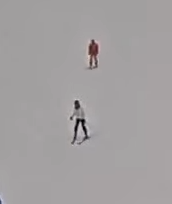skier: (59, 93, 102, 150), (78, 30, 108, 76)
